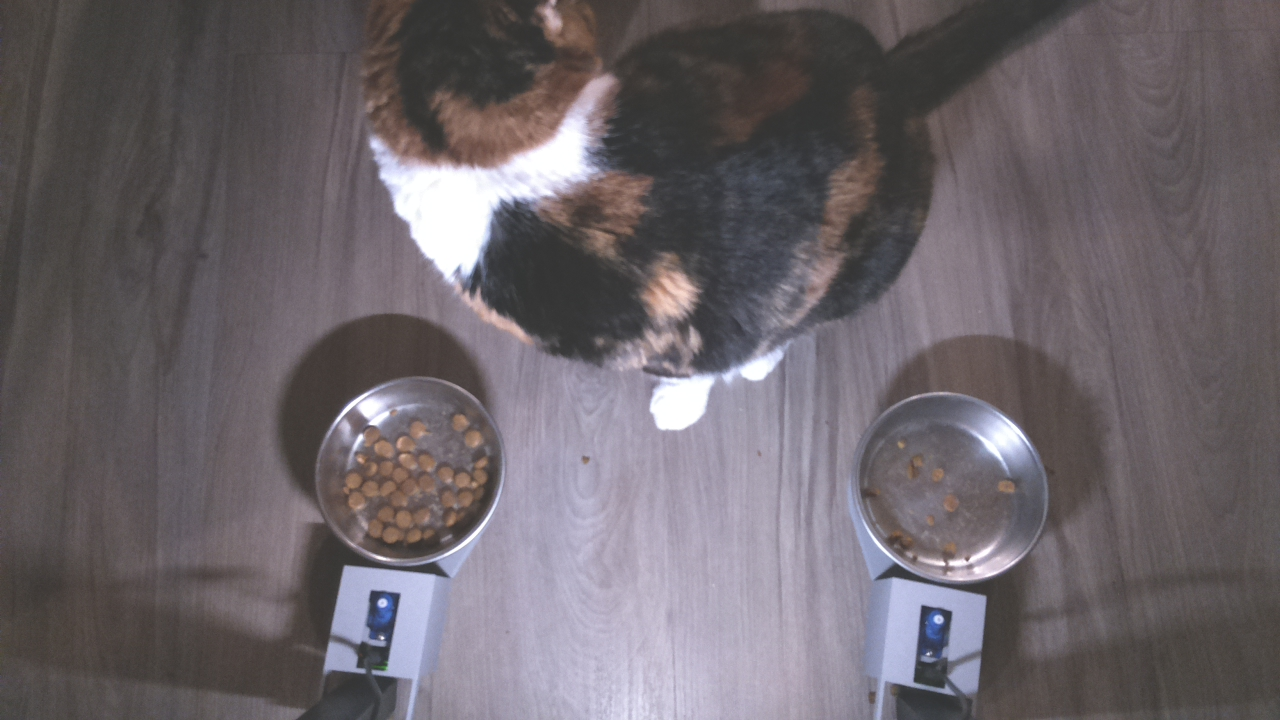bella: (330, 1, 625, 168)
open_bowl: (851, 386, 1055, 589), (314, 379, 508, 570)
